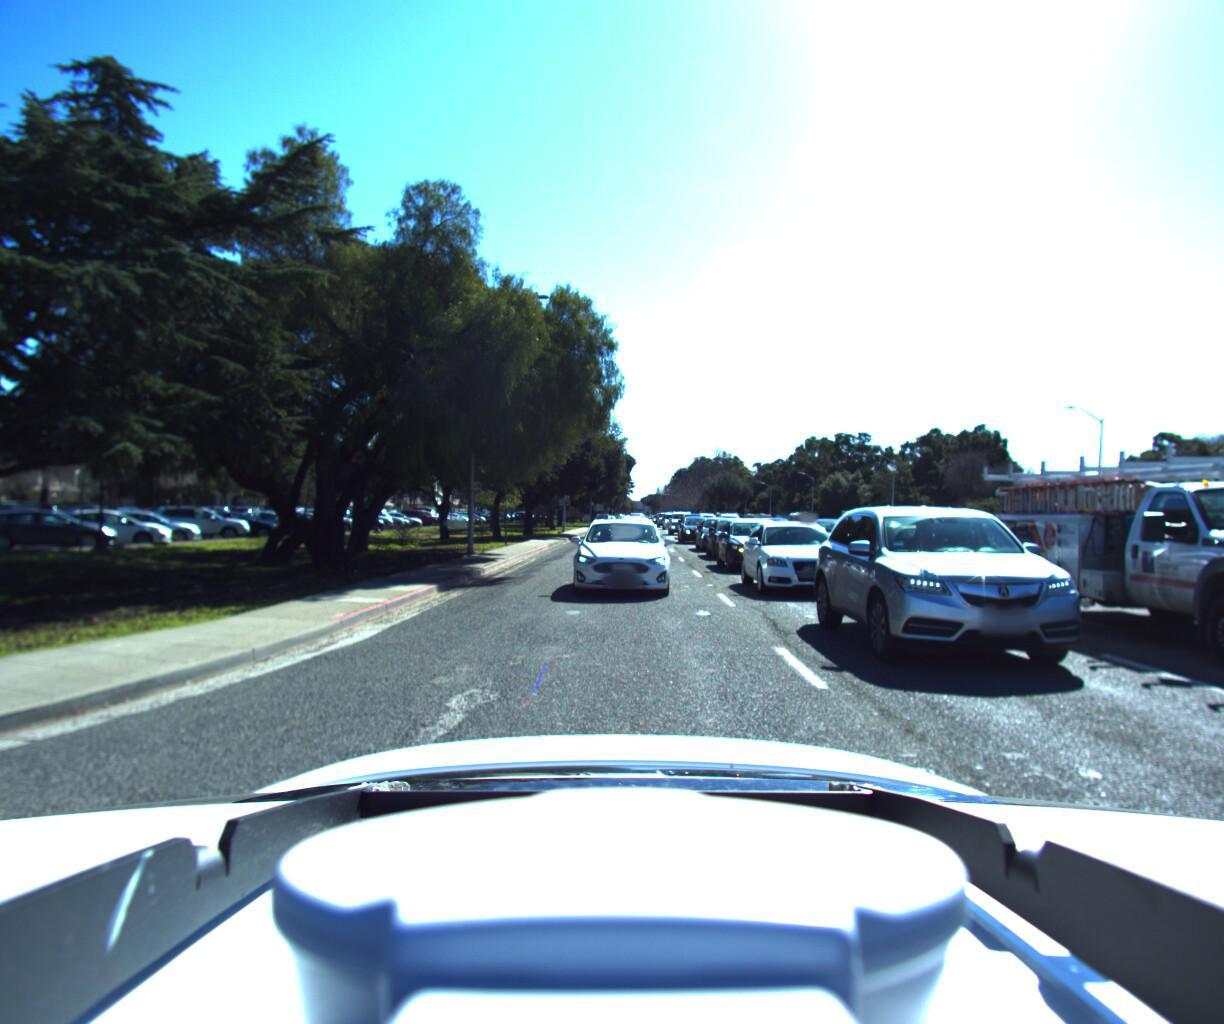car: (801, 497, 1108, 685), (730, 514, 858, 597), (565, 513, 672, 601), (707, 515, 800, 573), (699, 514, 771, 563), (673, 515, 713, 546), (662, 510, 693, 536), (659, 510, 681, 529)
other_vehicle: (959, 395, 1224, 713), (857, 506, 909, 541)
